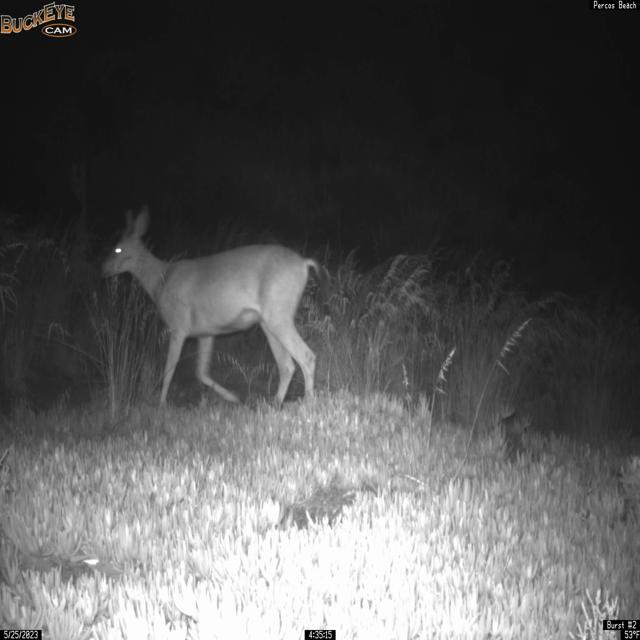deer: (99, 203, 328, 411)
